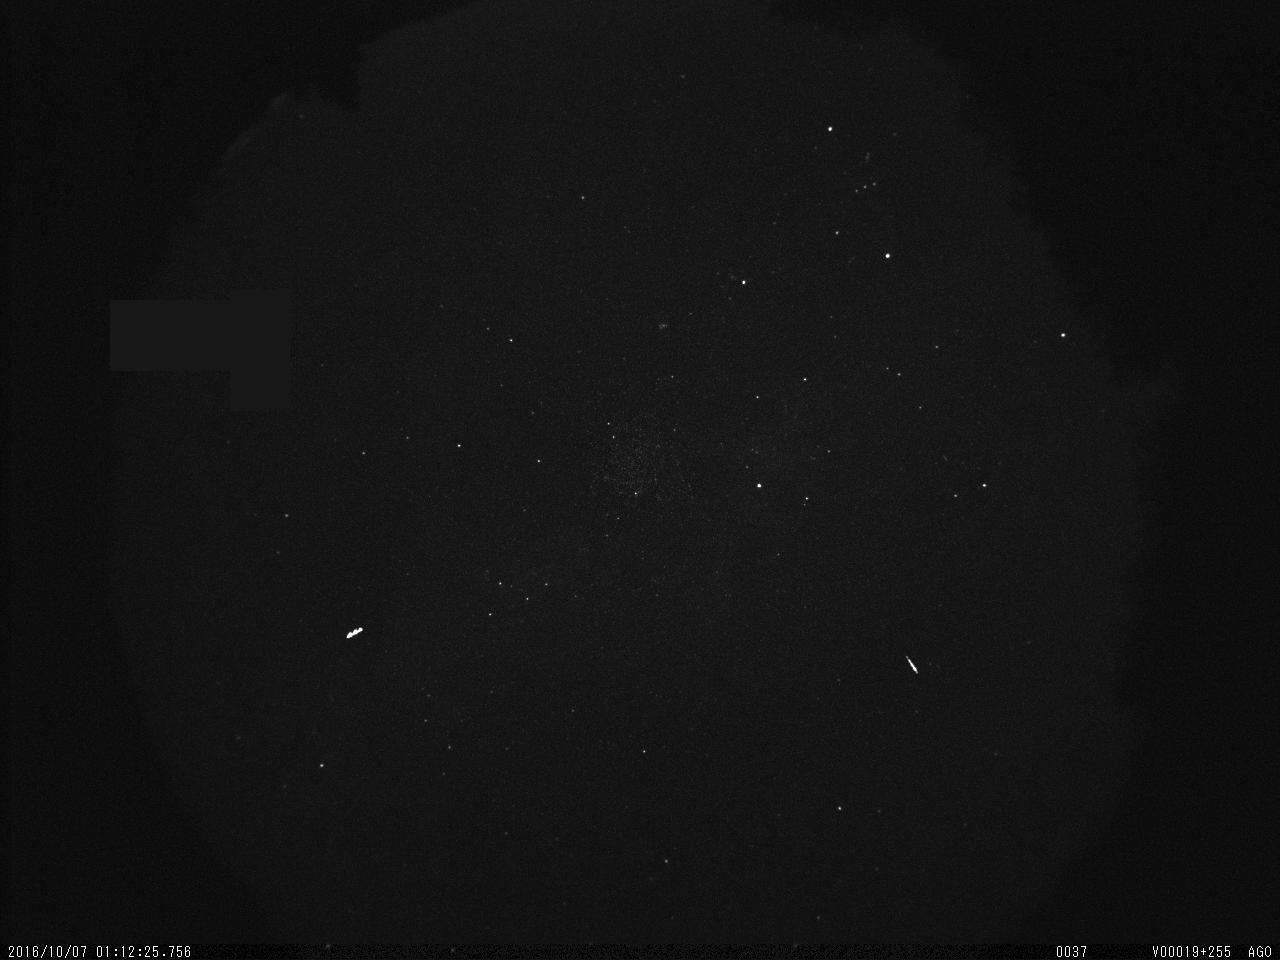Meteor: (903, 651, 921, 672)
